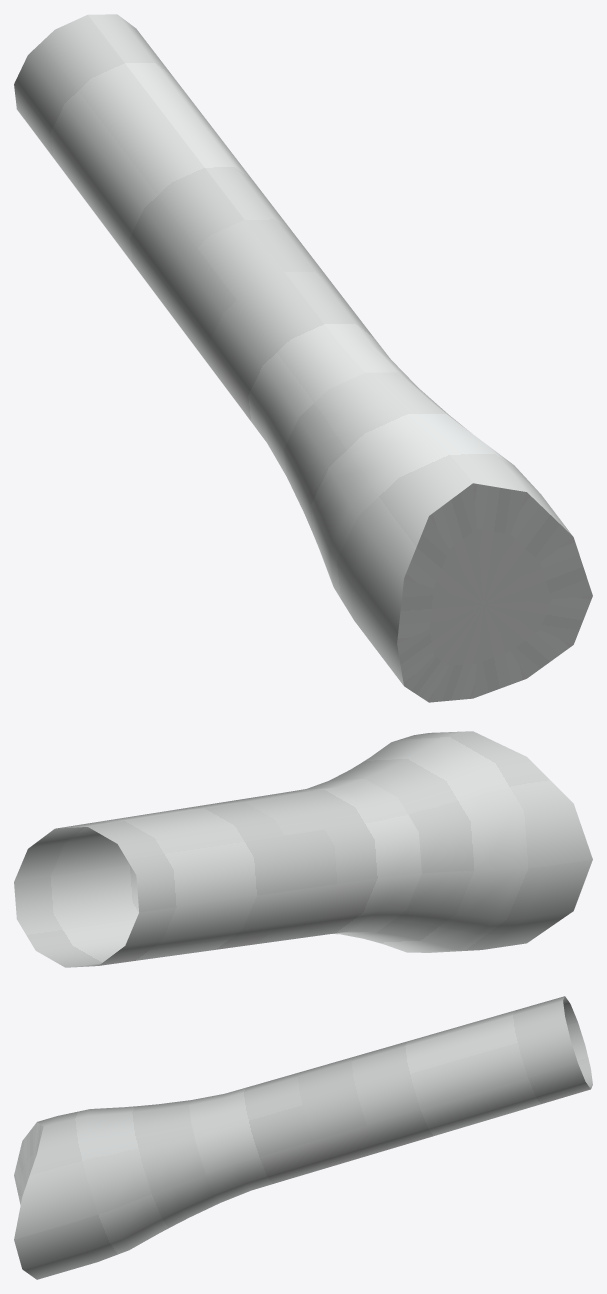
The model's file is luminairearm_caltrans12ftstraightdouble_c0_thin.obj.
3 views of the same model, one above another, from view 1: azimuth 30°, elevation 25°; view 2: azimuth 150°, elevation 25°; view 3: azimuth 270°, elevation 25° (orthographic). The views are drawn at different scales.
Visible parts, largest first — view 1: luminairearm_caltrans12ftstraightdouble_c0_thin; view 2: luminairearm_caltrans12ftstraightdouble_c0_thin; view 3: luminairearm_caltrans12ftstraightdouble_c0_thin.
Part boxes in pixels (x1,y1,x2,y2): luminairearm_caltrans12ftstraightdouble_c0_thin: [14, 14, 592, 702]; luminairearm_caltrans12ftstraightdouble_c0_thin: [14, 731, 592, 967]; luminairearm_caltrans12ftstraightdouble_c0_thin: [14, 996, 592, 1279].
Bounding box in the file's own units: 0.3375 × 0.6615 × 1.28.
